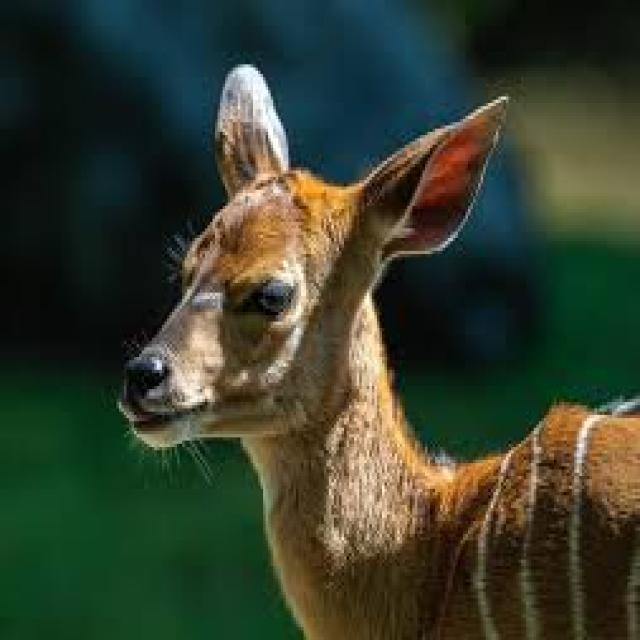Antelope: (114, 54, 640, 634)
